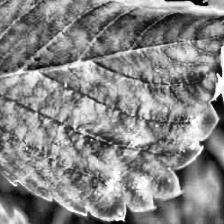Powdery Mildew Leaf: (0, 0, 224, 223)
